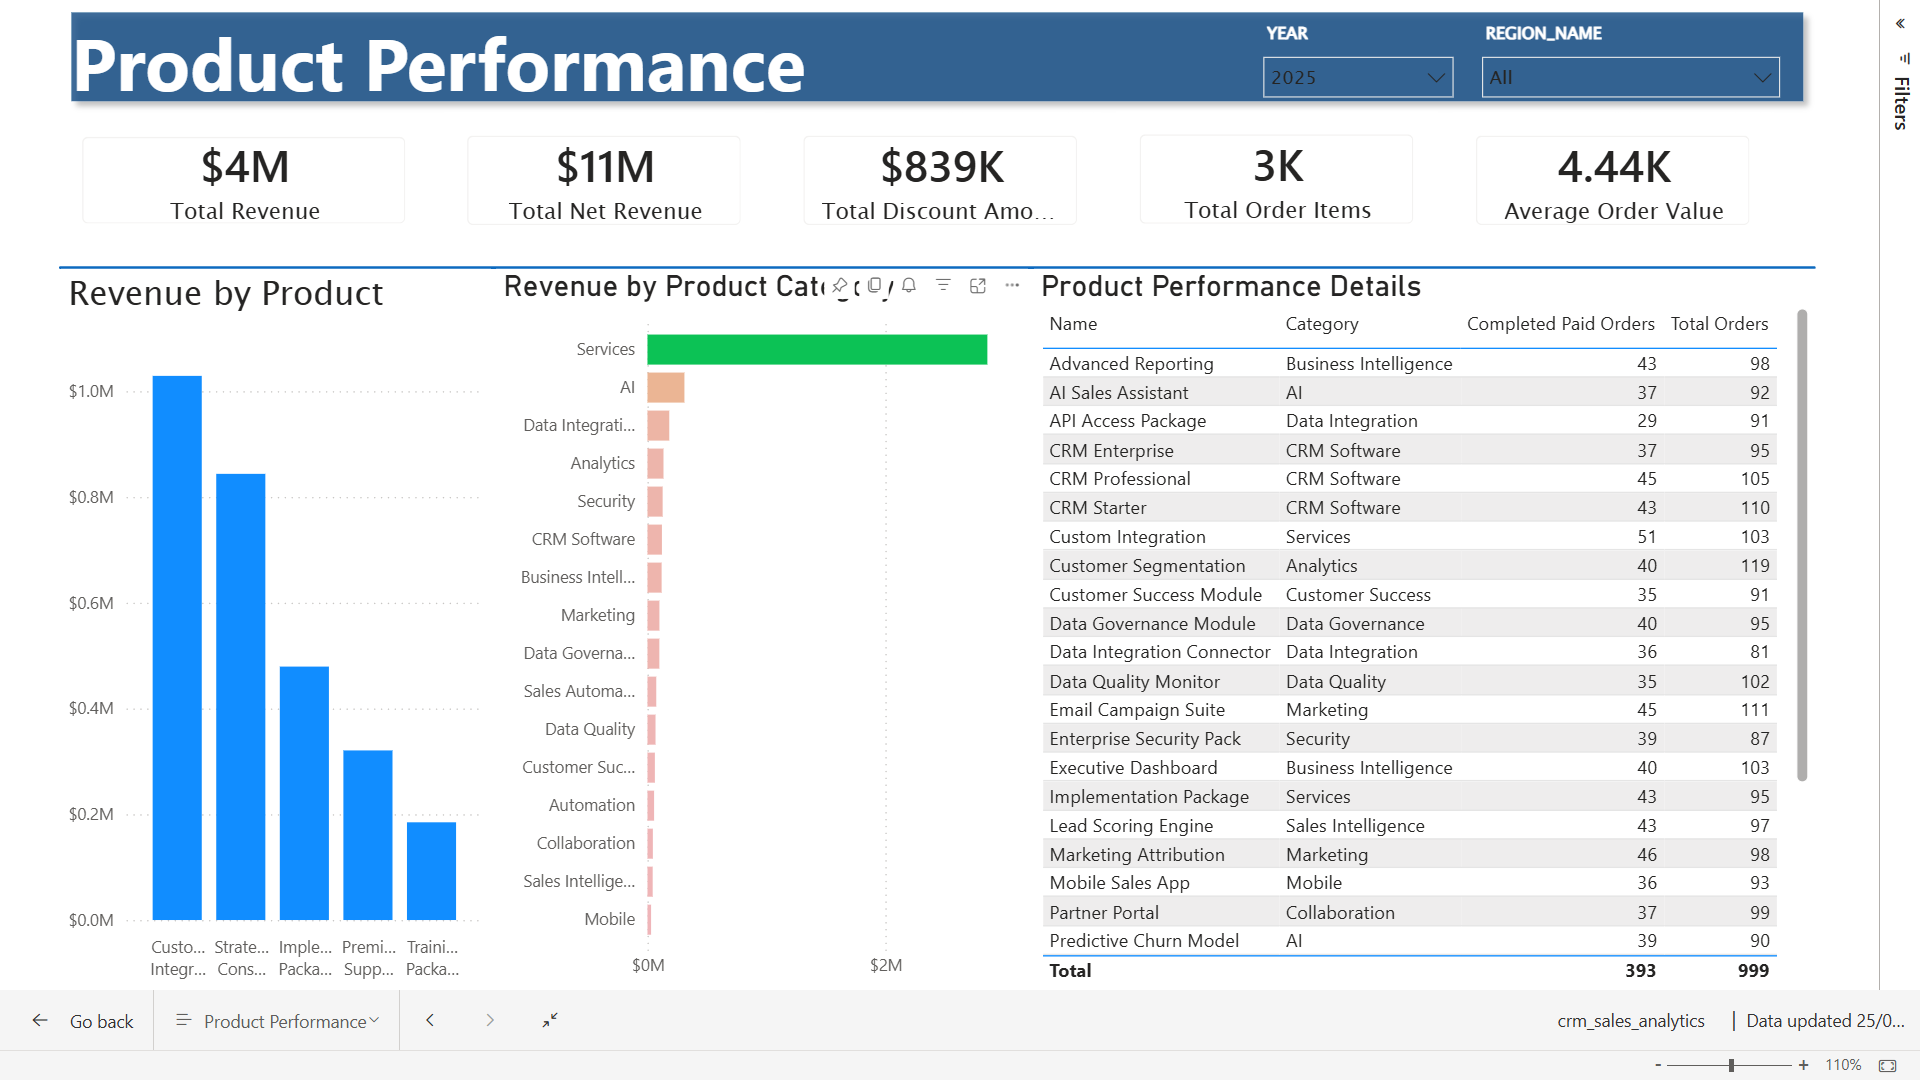

This screenshot's page, from the dashboard's own definition file:
{"tool":"powerbi","page":{"name":"Product Performance","canvas":[1280,720],"ordinal":3},"visuals":[{"type":"shape","box":[0,0,1277.5,82.6],"z":0},{"type":"cardVisual","fields":{"Data":["_Measures.Total Recognized Revenue"]},"box":[0,82.4,269.8,97.7],"z":0,"group":"g1"},{"type":"cardVisual","fields":{"Data":["_Measures.Total Net Revenue"]},"box":[280.4,81.4,233.9,99.5],"z":1000,"group":"g1"},{"type":"shape","box":[0,155.5,1277.5,78.4],"z":1000},{"type":"slicer","fields":{"Values":["DIM_DATES.YEAR"]},"box":[865.4,11.3,158.9,61.5],"z":2000},{"type":"cardVisual","fields":{"Data":["_Measures.Total Discount Amount"]},"box":[524.9,82.1,233.9,99.5],"z":2000,"group":"g1"},{"type":"slicer","fields":{"Values":["DIM_REGIONS.REGION_NAME"]},"box":[1024.3,11.3,237.1,61.5],"z":3000},{"type":"cardVisual","fields":{"Data":["_Measures.Total Order Items"]},"box":[769.4,80.9,233.9,99.5],"z":3000,"group":"g1"},{"type":"cardVisual","fields":{"Data":["_Measures.Average Order Value"]},"box":[1013.8,81.7,233.9,99.5],"z":4000,"group":"g1"},{"type":"group","id":"g1","title":"Groupe 1","box":[0,80.9,1247.7,100.8],"z":5000},{"type":"columnChart","title":"Revenue by Product","fields":{"Y":["_Measures.Total Recognized Revenue"],"Category":["DIM_PRODUCTS.PRODUCT_NAME"]},"box":[1.7,195.1,311.9,524.9],"z":6000},{"type":"clusteredBarChart","title":"Revenue by Product Category","fields":{"Y":["_Measures.Total Recognized Revenue"],"Category":["DIM_PRODUCTS.PRODUCT_CATEGORY"]},"box":[318.2,195.1,386.5,524.9],"z":7000},{"type":"tableEx","title":"Product Performance Details","fields":{"Values":["DIM_PRODUCTS.PRODUCT_NAME","DIM_PRODUCTS.PRODUCT_CATEGORY","_Measures.Completed Paid Orders","_Measures.Total Orders"]},"box":[709.3,195.3,568.3,524.9],"z":7001}]}

Visuals, with their boxes on the page's 1280x720 design canvas (x1, y1, x2, y2). These are canvas units, not pixel positions in the 1920x1080 screenshot, which may show the page scaled, cropped or inside an application window:
shape: [x1=0, y1=0, x2=1278, y2=83]
cardVisual - _Measures.Total Recognized Revenue: [x1=0, y1=82, x2=270, y2=180]
cardVisual - _Measures.Total Net Revenue: [x1=280, y1=81, x2=514, y2=181]
shape: [x1=0, y1=156, x2=1278, y2=234]
slicer - DIM_DATES.YEAR: [x1=865, y1=11, x2=1024, y2=73]
cardVisual - _Measures.Total Discount Amount: [x1=525, y1=82, x2=759, y2=182]
slicer - DIM_REGIONS.REGION_NAME: [x1=1024, y1=11, x2=1261, y2=73]
cardVisual - _Measures.Total Order Items: [x1=769, y1=81, x2=1003, y2=180]
cardVisual - _Measures.Average Order Value: [x1=1014, y1=82, x2=1248, y2=181]
"Groupe 1" group: [x1=0, y1=81, x2=1248, y2=182]
"Revenue by Product" columnChart: [x1=2, y1=195, x2=314, y2=720]
"Revenue by Product Category" clusteredBarChart: [x1=318, y1=195, x2=705, y2=720]
"Product Performance Details" tableEx: [x1=709, y1=195, x2=1278, y2=720]
